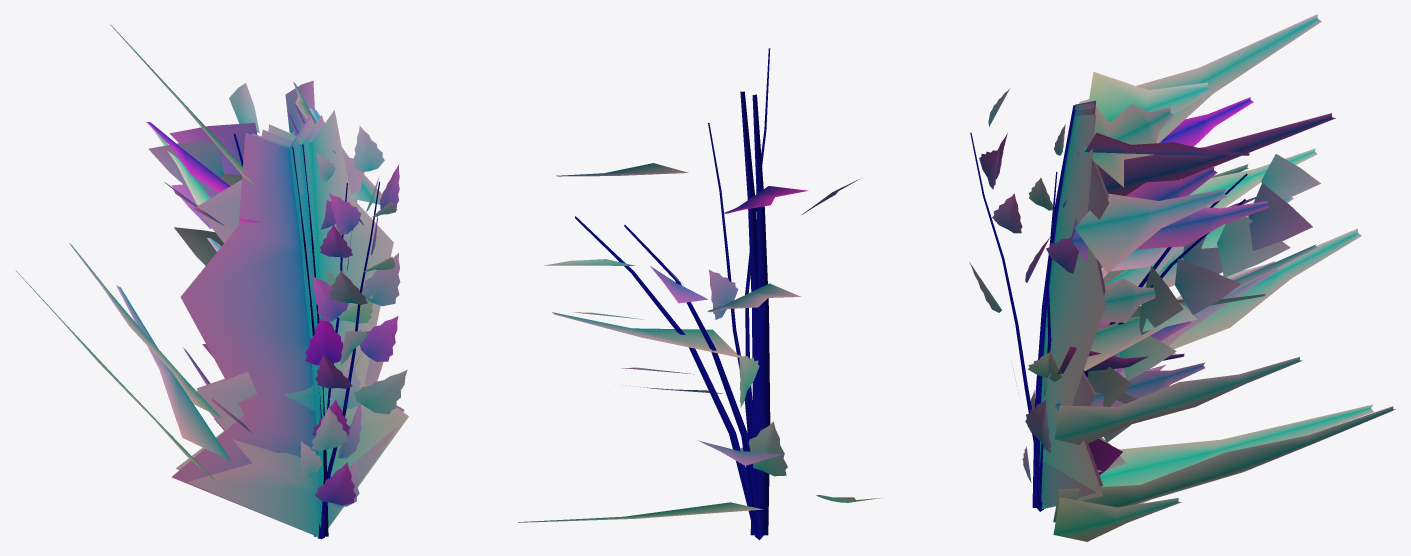
The model's file is summer-foliage.glb.
3 views of the same model, side by side, from view 1: azimuth 30°, elevation 25°; view 2: azimuth 150°, elevation 25°; view 3: azimuth 270°, elevation 25° (orthographic). The views are drawn at different scales.
Parts seen in each view (by area): view 1: spruce_frond_0, birch_spray_0, spruce_bough_1, spruce_frond_1, spruce_bough_0, birch_spray_1, birch_strand_0, birch_strand_1; view 2: spruce_bough_1, spruce_frond_0, birch_strand_0, spruce_bough_0, birch_strand_1, birch_spray_1, birch_spray_0, spruce_frond_1; view 3: spruce_bough_0, spruce_frond_1, spruce_frond_0, birch_strand_1, spruce_bough_1, birch_strand_0, birch_spray_0, birch_spray_1.
Boxes of the visible parts, x1,y1,x2,y2 form: spruce_frond_0: (109,23,404,532); birch_spray_0: (311,126,407,535); spruce_bough_1: (164,81,365,537); spruce_frond_1: (176,108,408,527); spruce_bough_0: (15,103,398,536); birch_spray_1: (300,153,379,533); birch_strand_0: (148,83,324,538); birch_strand_1: (169,81,324,538); spruce_bough_1: (626,94,882,535); spruce_frond_0: (518,312,763,522); birch_strand_0: (544,224,763,540); spruce_bough_0: (723,91,808,535); birch_strand_1: (573,216,784,539); birch_spray_1: (708,123,759,504); birch_spray_0: (740,48,787,517); spruce_frond_1: (556,163,688,176); spruce_bough_0: (1032,97,1395,522); spruce_frond_1: (1040,71,1227,541); spruce_frond_0: (1059,14,1373,504); birch_strand_1: (1036,183,1312,511); spruce_bough_1: (1034,102,1217,410); birch_strand_0: (1039,154,1320,511); birch_spray_0: (969,88,1055,507); birch_spray_1: (1022,124,1078,506).
Bounding box in the file's own units: 0.7606 × 1.15 × 1.06.
